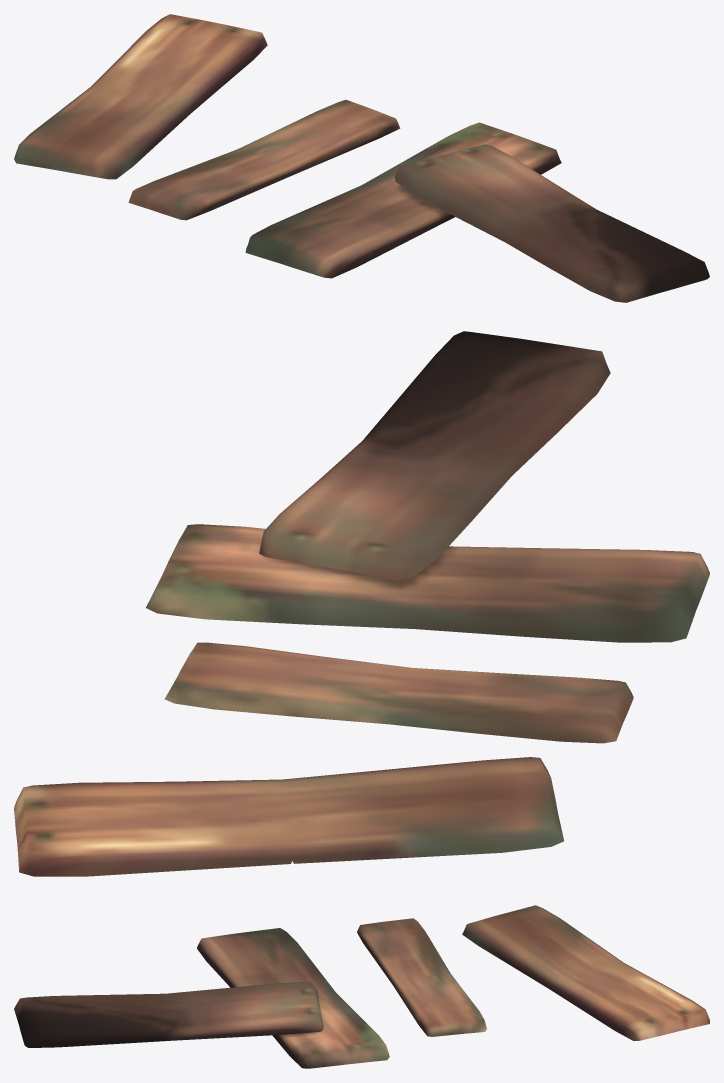
The model's file is Beach_Details_5.glb.
3 renders of one model, top to bottom at view 1: azimuth 30°, elevation 25°; view 2: azimuth 150°, elevation 25°; view 3: azimuth 270°, elevation 25°, orthographic. The views are drawn at different scales.
Parts seen in each view (by area): view 1: Object_2.026; view 2: Object_2.026; view 3: Object_2.026.
Part boxes in pixels (x1,y1,x2,y2): Object_2.026: [14, 14, 709, 302]; Object_2.026: [14, 331, 709, 876]; Object_2.026: [14, 905, 709, 1068].
Size of the model in its own units: 15.87 by 1.63 by 29.16.
Materials: 1 (1 with a texture image).
